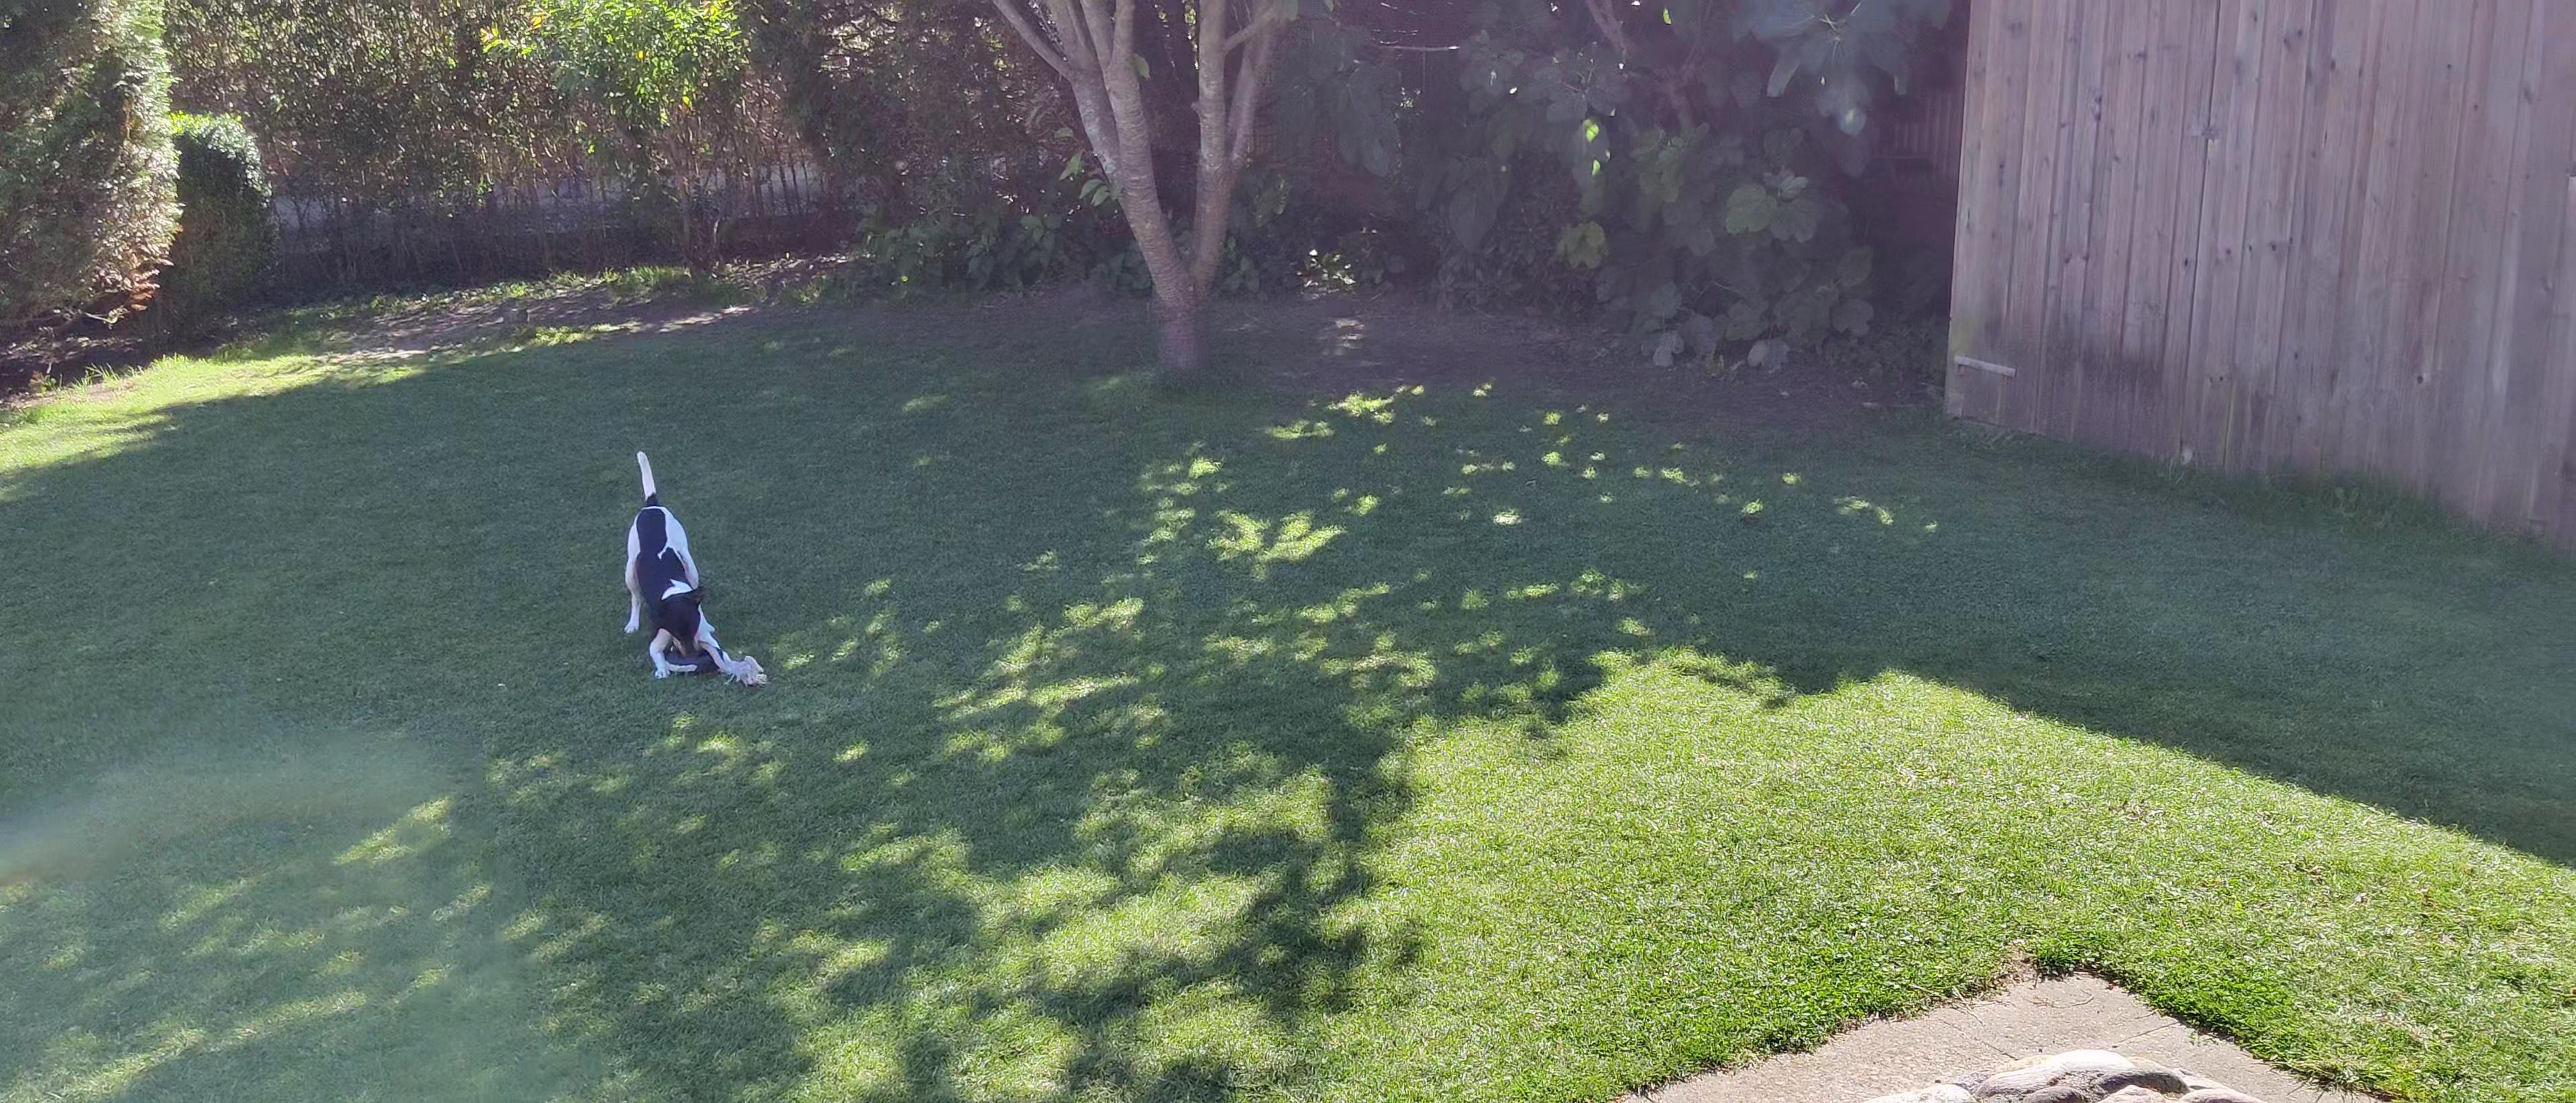Dog: (611, 445, 731, 681)
